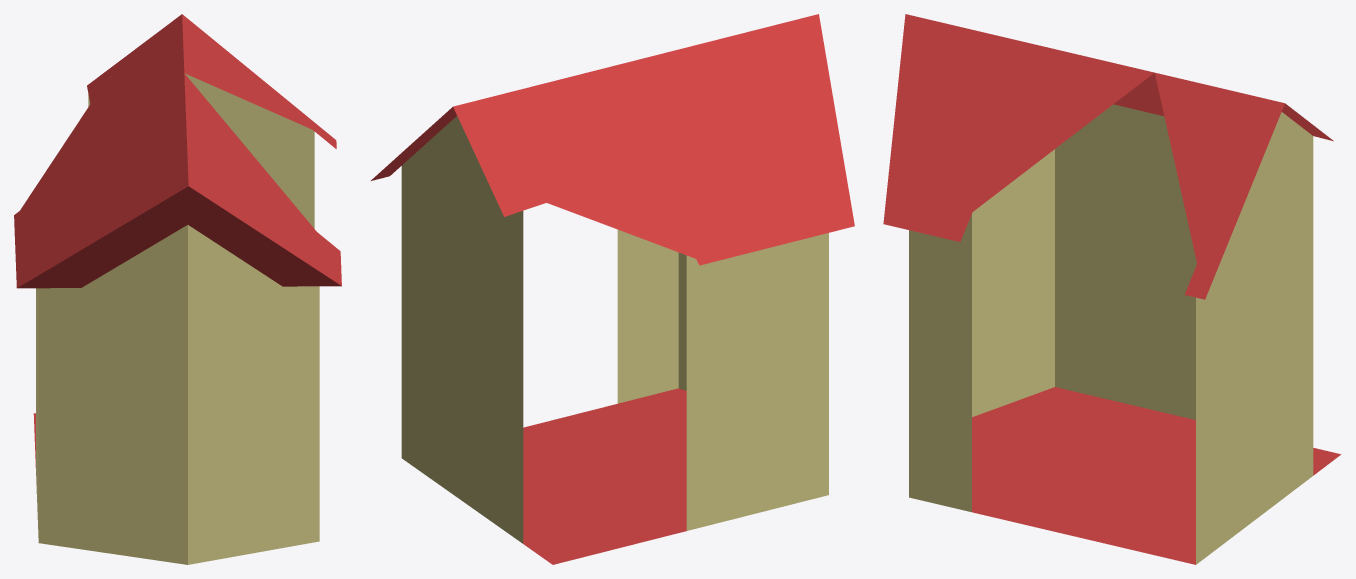
3 views of the same model, side by side, from view 1: azimuth 30°, elevation 25°; view 2: azimuth 150°, elevation 25°; view 3: azimuth 270°, elevation 25° (orthographic). The views are drawn at different scales.
Bounding box in the file's own units: 15.31 × 14.56 × 14.54.
